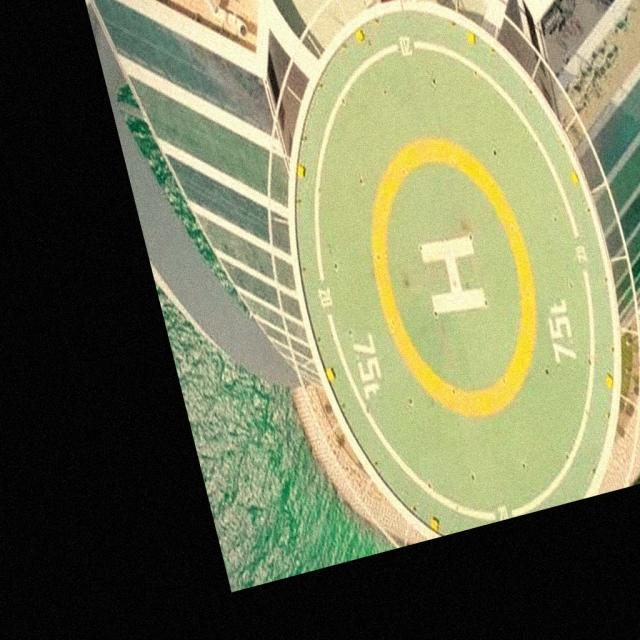helipad: (363, 130, 545, 424)
